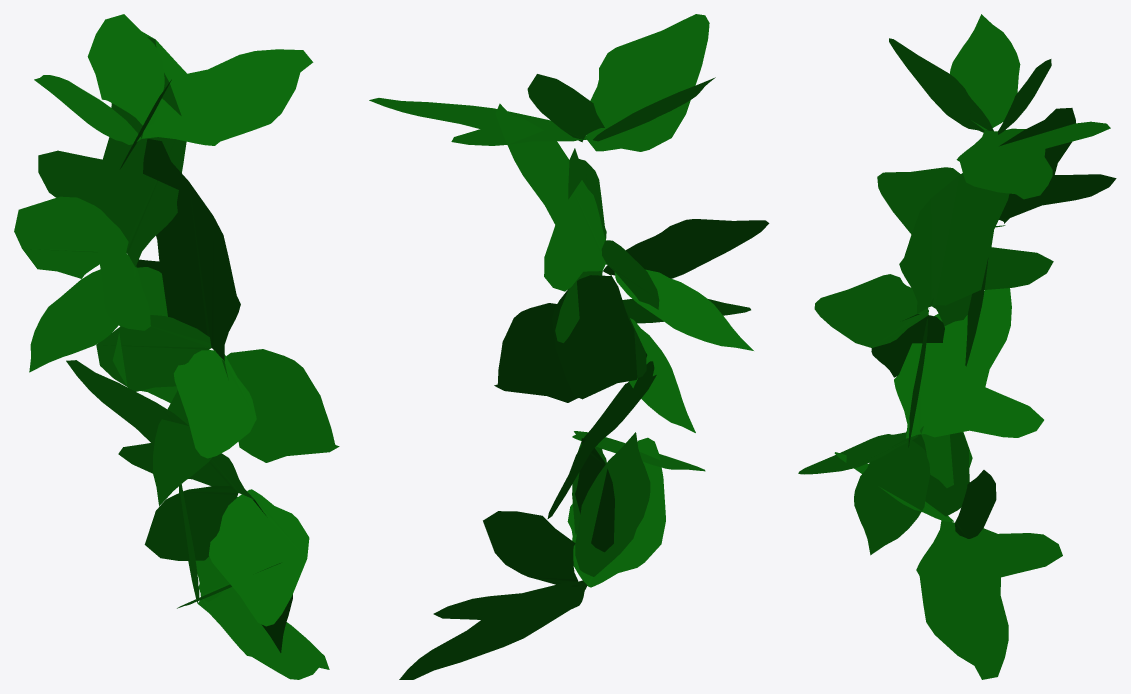
Rendered from Vegetation_Modular_New_Plant_Creeper_Ivy_01.FBX.
3 views of the same model, side by side, from view 1: azimuth 30°, elevation 25°; view 2: azimuth 150°, elevation 25°; view 3: azimuth 270°, elevation 25° (orthographic). The views are drawn at different scales.
Visible parts, largest first — view 1: Vegetation_Modular_New_Plant_Creeper_Ivy_01; view 2: Vegetation_Modular_New_Plant_Creeper_Ivy_01; view 3: Vegetation_Modular_New_Plant_Creeper_Ivy_01.
Boxes of the visible parts, <box> form: Vegetation_Modular_New_Plant_Creeper_Ivy_01: <box>14,14,339,679</box>; Vegetation_Modular_New_Plant_Creeper_Ivy_01: <box>369,14,769,679</box>; Vegetation_Modular_New_Plant_Creeper_Ivy_01: <box>798,14,1116,679</box>.
Size of the model in its own units: 756 by 1480 by 775.
